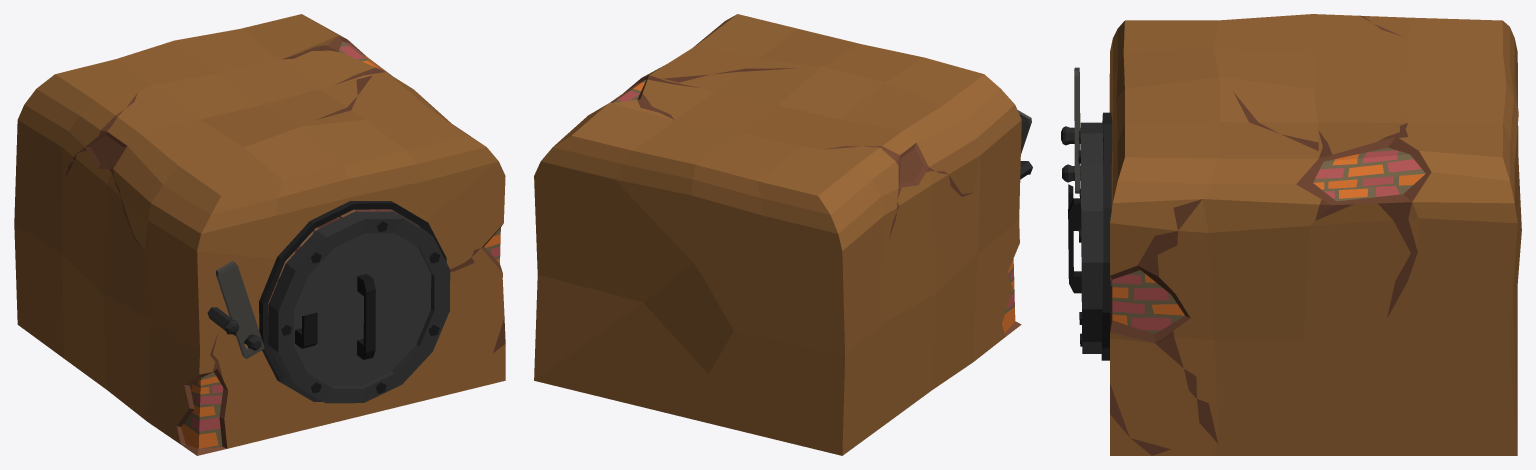
File: coalmaker_3.fbx
3 views of the same model, side by side, from view 1: azimuth 30°, elevation 25°; view 2: azimuth 150°, elevation 25°; view 3: azimuth 270°, elevation 25° (orthographic). The views are drawn at different scales.
Visible parts, largest first — view 1: coulstove, hatch, bolt; view 2: coulstove; view 3: coulstove, hatch, bolt.
Part boxes in pixels (x1=…): coulstove: x1=14, y1=14, x2=505, y2=455; hatch: x1=268, y1=211, x2=450, y2=403; bolt: x1=216, y1=261, x2=264, y2=358; coulstove: x1=534, y1=14, x2=1032, y2=455; coulstove: x1=1061, y1=14, x2=1521, y2=455; hatch: x1=1068, y1=122, x2=1103, y2=353; bolt: x1=1074, y1=67, x2=1080, y2=193.
Bounding box in the file's own units: 1.33 × 1.04 × 1.48.
